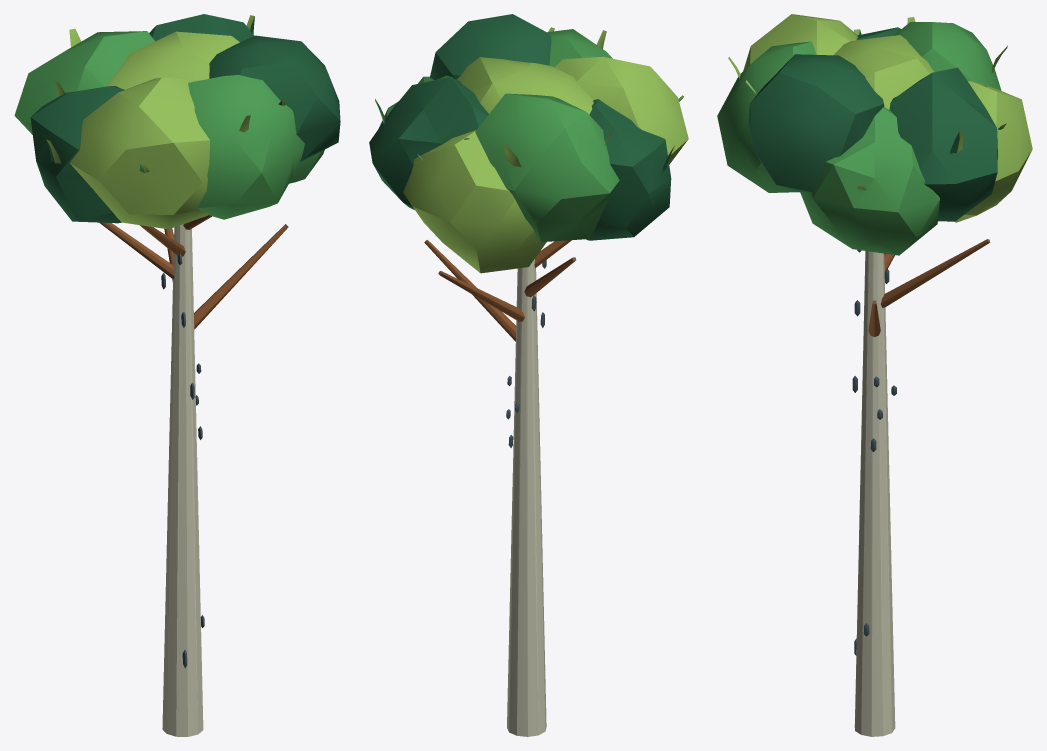
File: tree_birch_lod2.glb
3 renders of one model, left to right at view 1: azimuth 30°, elevation 25°; view 2: azimuth 150°, elevation 25°; view 3: azimuth 270°, elevation 25°, orthographic. The views are drawn at different scales.
Visible parts, largest first — view 1: Pale birch trunk.001; view 2: Pale birch trunk.001; view 3: Pale birch trunk.001.
Boxes of the visible parts, bbox=[...] form: Pale birch trunk.001: bbox=[14, 14, 340, 736]; Pale birch trunk.001: bbox=[369, 14, 688, 736]; Pale birch trunk.001: bbox=[717, 14, 1032, 736].
Bounding box in the file's own units: 3.17 × 7.29 × 3.01.
